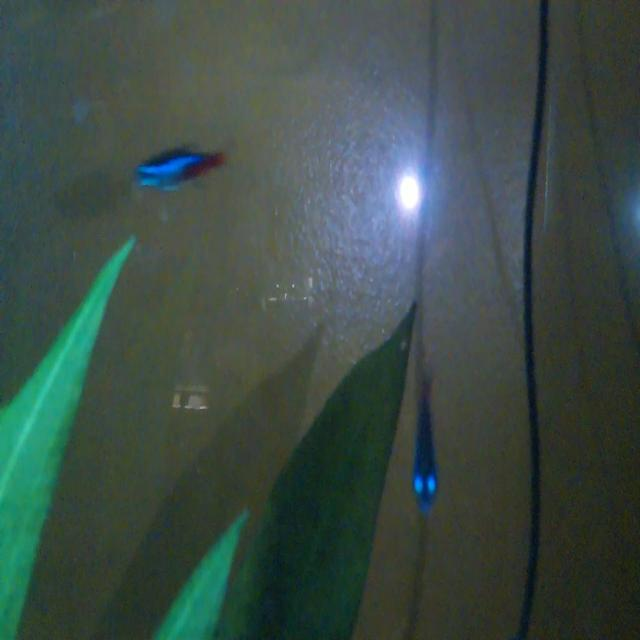fish: (129, 130, 227, 201), (408, 356, 449, 522)
